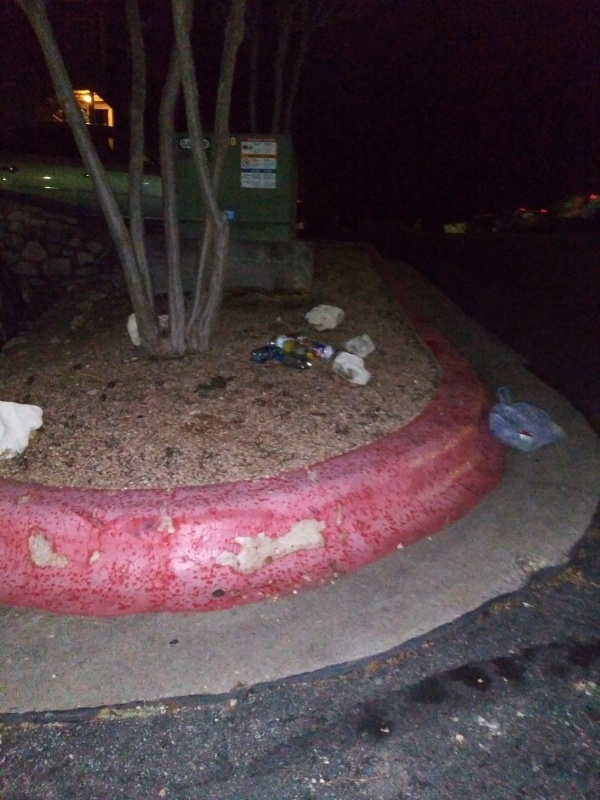bottle: (273, 352, 314, 373), (280, 341, 316, 361), (301, 340, 335, 359), (246, 345, 279, 361)
